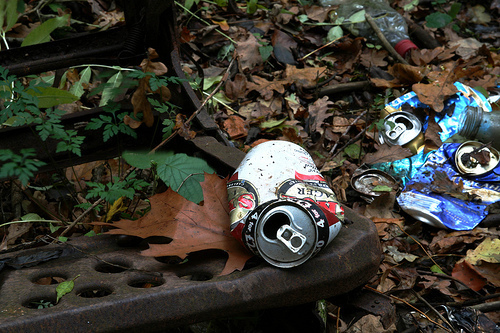litter: (227, 138, 344, 268), (350, 139, 500, 231), (380, 80, 500, 138), (329, 1, 416, 55)
